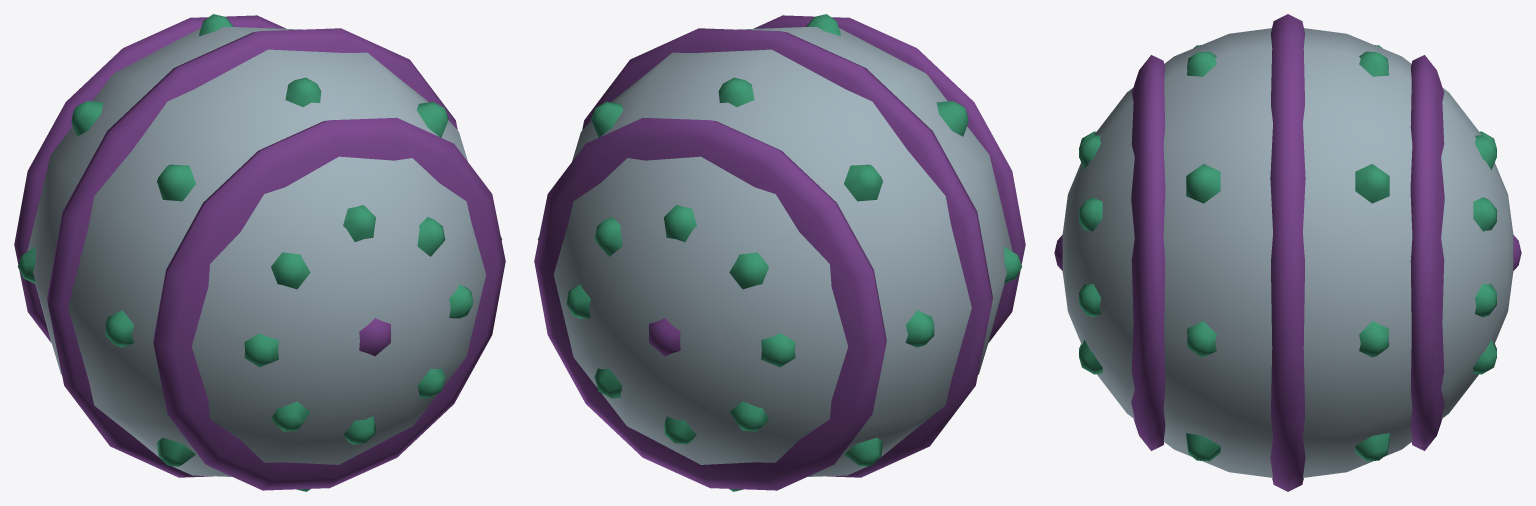
The model's file is basic-ball.fbx.
3 renders of one model, left to right at view 1: azimuth 30°, elevation 25°; view 2: azimuth 150°, elevation 25°; view 3: azimuth 270°, elevation 25°, orthographic. The views are drawn at different scales.
Visible parts, largest first — view 1: basic-ball; view 2: basic-ball; view 3: basic-ball.
Boxes of the visible parts, bbox=[...] form: basic-ball: bbox=[14, 14, 505, 491]; basic-ball: bbox=[534, 14, 1025, 491]; basic-ball: bbox=[1054, 14, 1521, 491].
Bounding box in the file's own units: 210 × 210 × 205.
